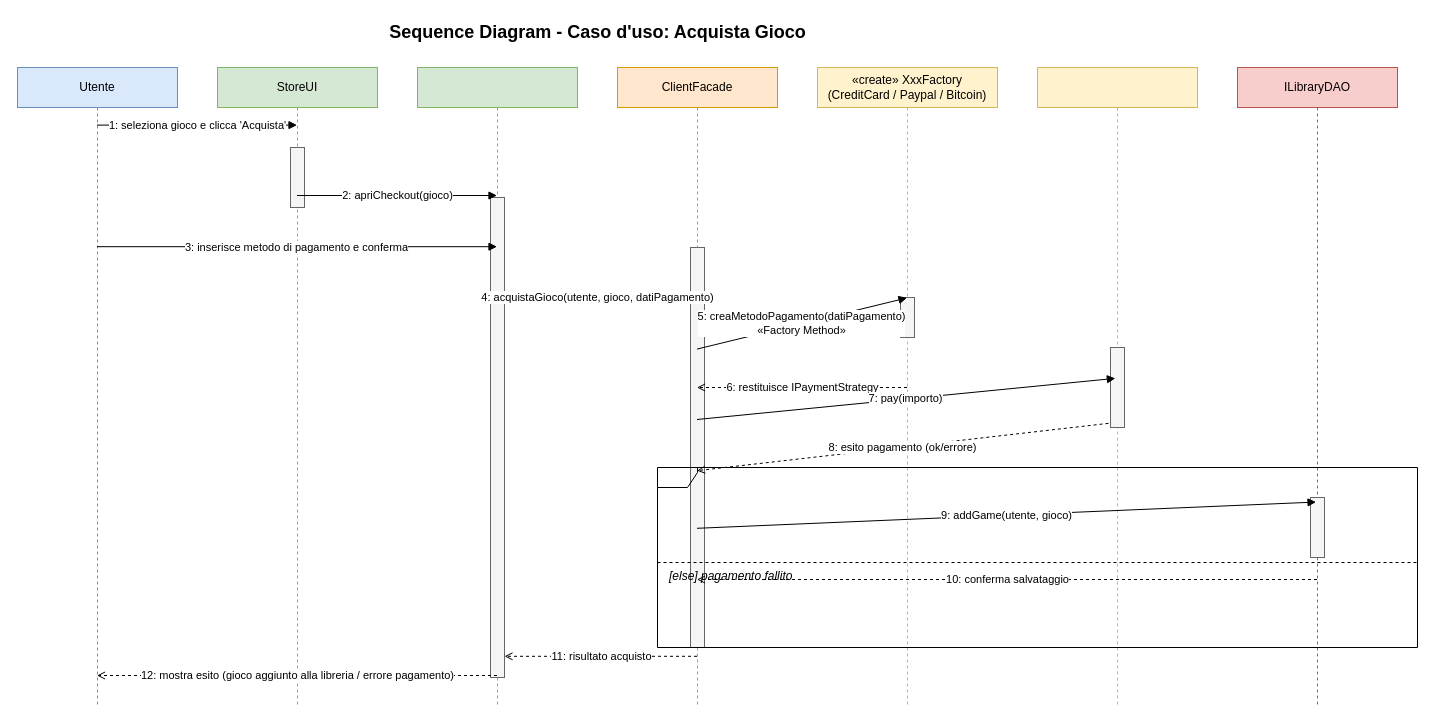
This 1435x725 diagram has some shape labels left out. The shapes that lost their labels are listed below. From the top down, each one's box as (x1, y1, x2, y2) in pixels, then its label:
(416, 66, 578, 708): CheckoutUI
(1036, 66, 1198, 708): IPaymentStrategy
(656, 466, 1418, 648): alt [pagamento riuscito]
